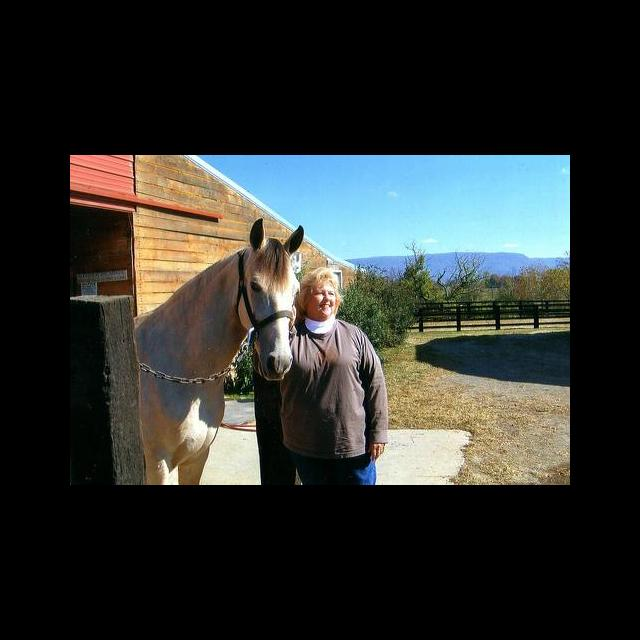NO-Hardhat: (305, 267, 339, 289)
NO-Mask: (309, 300, 334, 318)
NO-Safety Vest: (280, 324, 369, 455)
Person: (283, 265, 389, 485)
